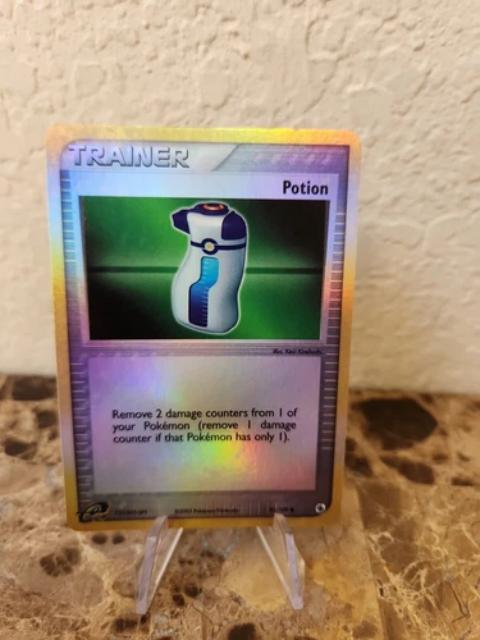Card: (40, 120, 364, 536)
Name: (277, 176, 336, 202)
